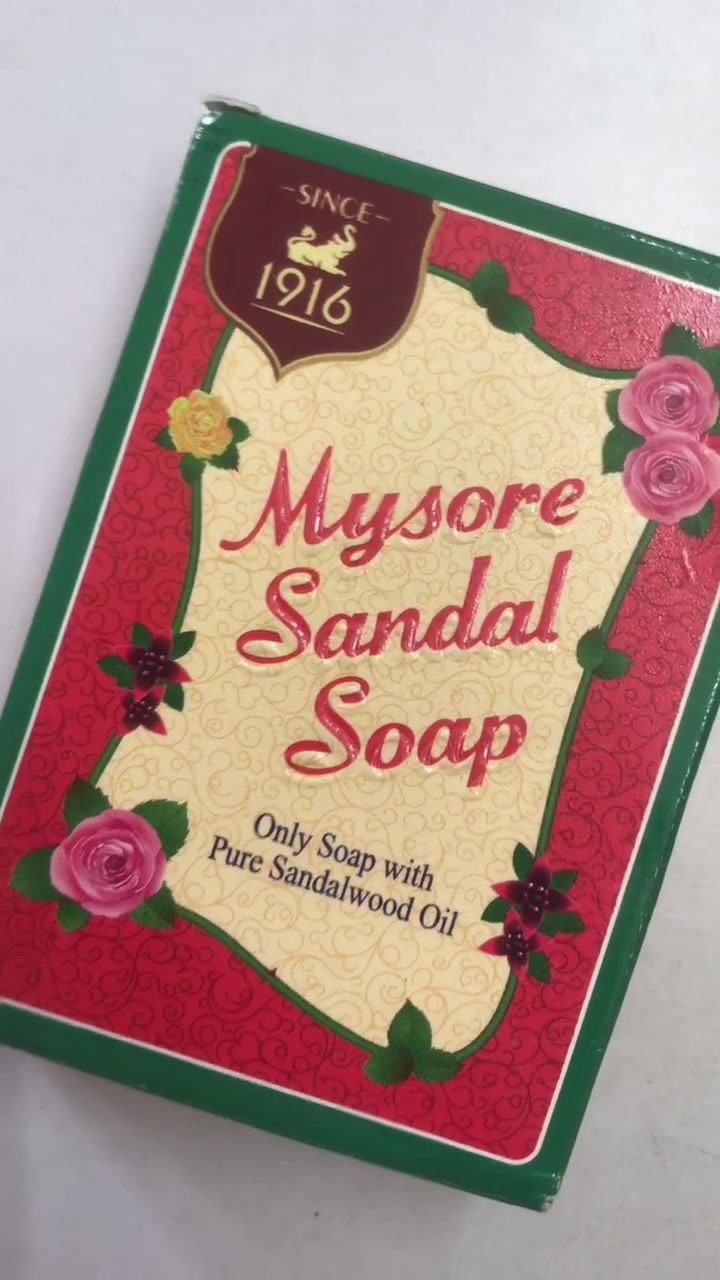mysore sandal soap: (10, 109, 720, 1206)
